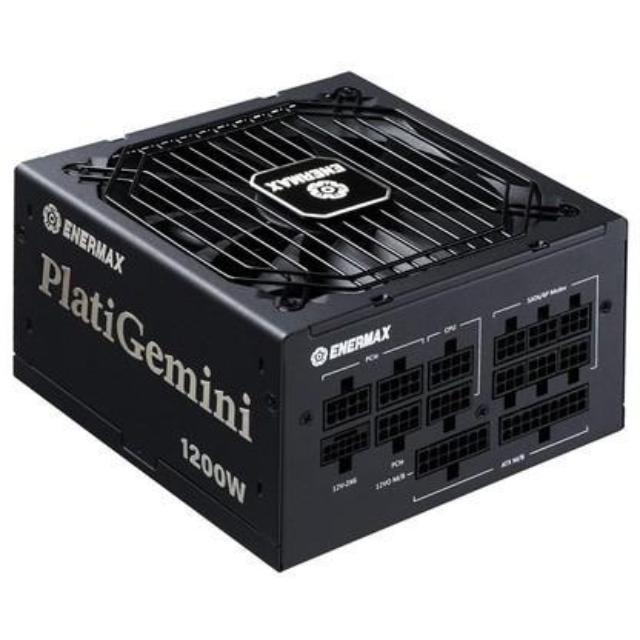PSU: (0, 58, 640, 580)
